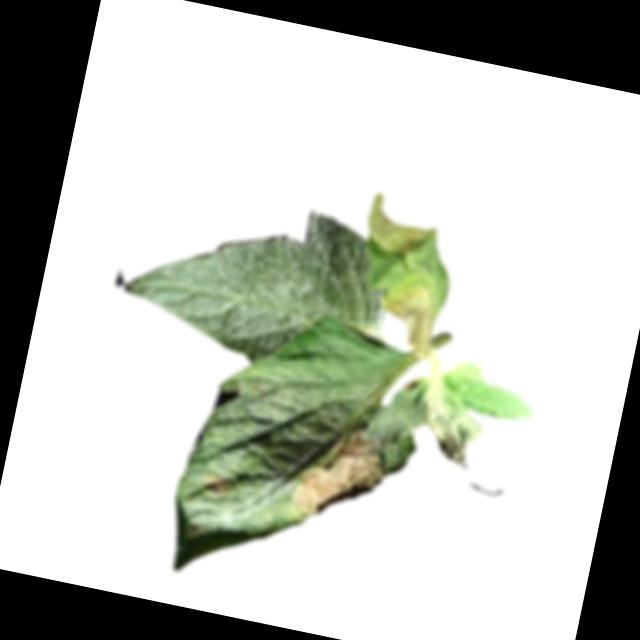Late_blight: (360, 365, 490, 471), (288, 409, 393, 528), (357, 191, 448, 278), (372, 269, 447, 363), (203, 469, 238, 500)
healthy: (115, 177, 404, 389)
